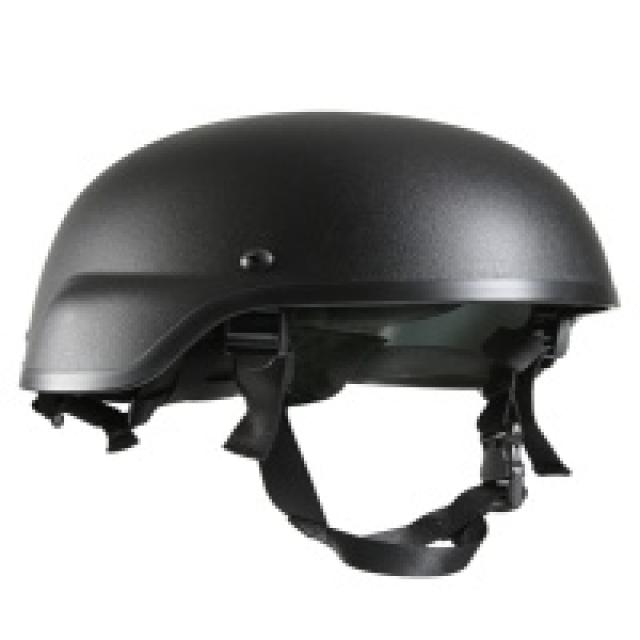Helmet: (32, 86, 624, 452)
